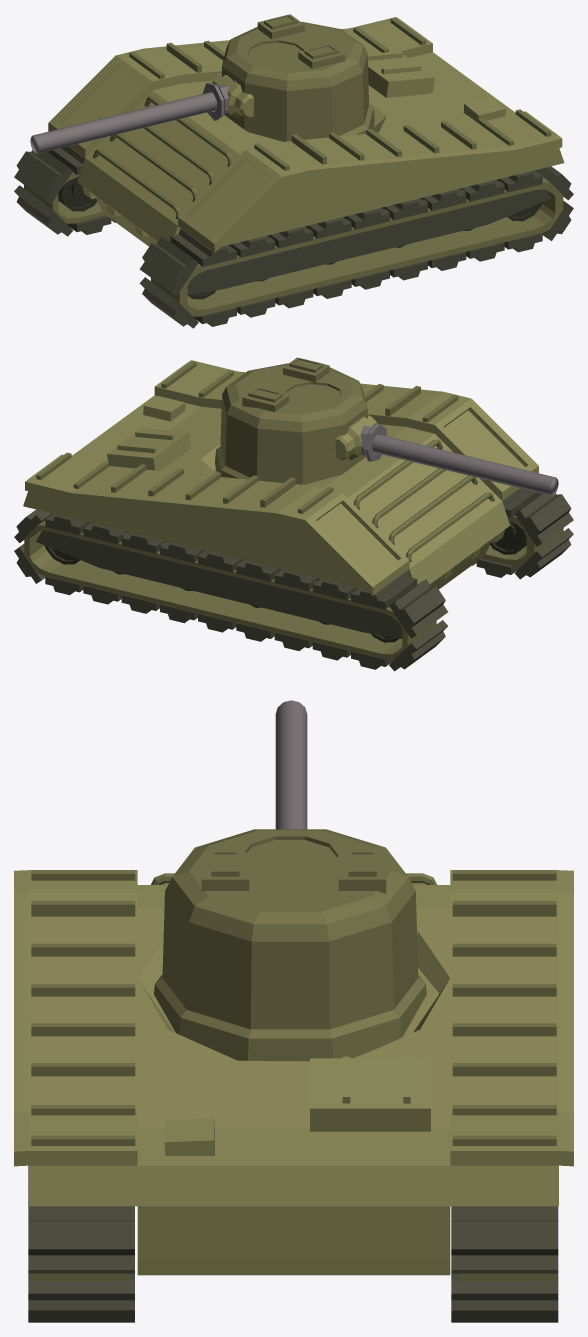
File: Tank3.obj
3 views of the same model, one above another, from view 1: azimuth 30°, elevation 25°; view 2: azimuth 150°, elevation 25°; view 3: azimuth 270°, elevation 25° (orthographic). The views are drawn at different scales.
Visible parts, largest first — view 1: Tank_body_p3, Tank_body_p0, Tank_Turret_p0, TrackMesh.L, Tank_body_p1, TrackMesh.R, Tank_Gun_Barrel, Tank_body_p2, Tank_Turret_p1, Tank_Gun; view 2: Tank_body_p3, Tank_body_p0, Tank_Turret_p0, TrackMesh.R, Tank_body_p1, TrackMesh.L, Tank_Gun_Barrel, Tank_body_p2, Tank_Turret_p1, Tank_Gun; view 3: Tank_body_p3, Tank_Turret_p0, Tank_body_p0, TrackMesh.R, TrackMesh.L, Tank_Gun_Barrel.
Boxes of the visible parts, x1,y1,x2,y2 form: Tank_body_p3: [48, 17, 564, 252]; Tank_body_p0: [24, 18, 563, 316]; Tank_Turret_p0: [221, 14, 374, 141]; TrackMesh.L: [139, 166, 573, 328]; Tank_body_p1: [93, 102, 551, 295]; TrackMesh.R: [14, 146, 115, 236]; Tank_Gun_Barrel: [30, 92, 216, 153]; Tank_body_p2: [58, 171, 542, 299]; Tank_Turret_p1: [212, 73, 253, 118]; Tank_Gun: [202, 79, 236, 120]; Tank_body_p3: [23, 360, 538, 595]; Tank_body_p0: [24, 361, 563, 659]; Tank_Turret_p0: [215, 357, 367, 484]; TrackMesh.R: [14, 509, 447, 671]; Tank_body_p1: [36, 445, 494, 638]; TrackMesh.L: [472, 488, 573, 579]; Tank_Gun_Barrel: [372, 434, 558, 495]; Tank_body_p2: [45, 514, 526, 642]; Tank_Turret_p1: [335, 415, 376, 460]; Tank_Gun: [355, 418, 386, 461]; Tank_body_p3: [14, 870, 573, 1275]; Tank_Turret_p0: [154, 829, 426, 1060]; Tank_body_p0: [31, 870, 556, 1280]; TrackMesh.R: [451, 1206, 558, 1322]; TrackMesh.L: [28, 1165, 134, 1322]; Tank_Gun_Barrel: [275, 700, 307, 829].
Size of the model in its own units: 16.87 by 6.75 by 10.54.
